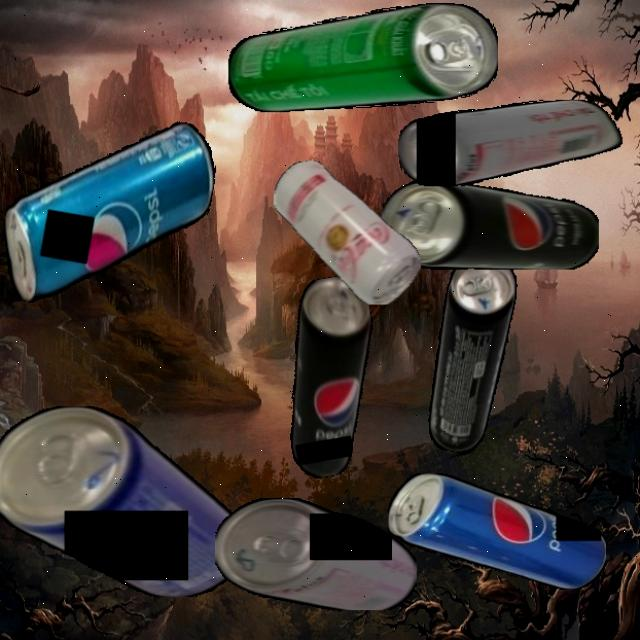debris: (0, 95, 223, 329), (0, 405, 245, 597), (227, 3, 498, 112), (265, 272, 397, 482), (387, 473, 606, 590), (215, 497, 417, 610), (419, 251, 522, 457), (274, 160, 421, 304), (382, 179, 599, 270), (398, 99, 623, 186)
